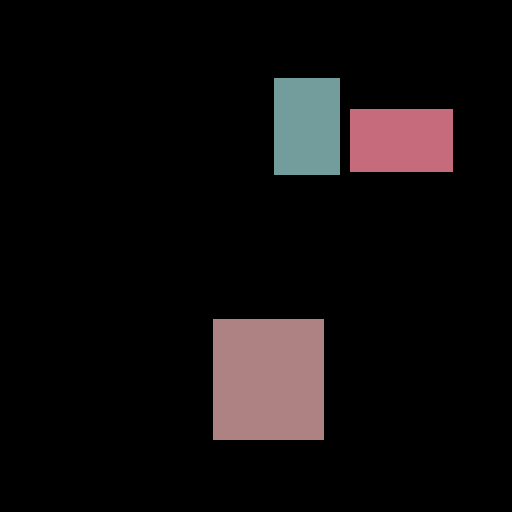rectangle: (350, 109, 452, 171), (274, 78, 339, 174)
square: (213, 319, 323, 439)
